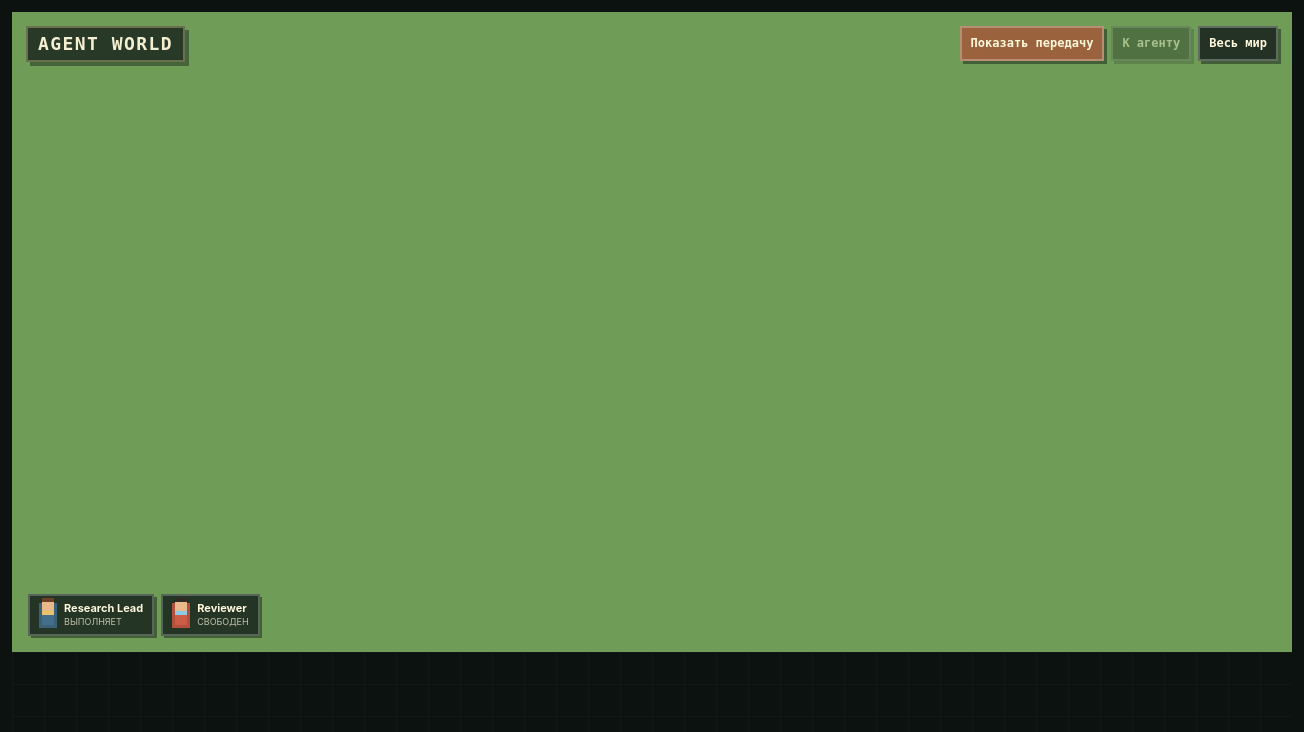
Scenario: Phase 6 living World renderer › replays exactly the supplied canonical handoff in-world
The width and height of the screenshot is (1304, 732).
Click the button "Показать передачу" at (1032, 44), box [960, 26, 1104, 61]
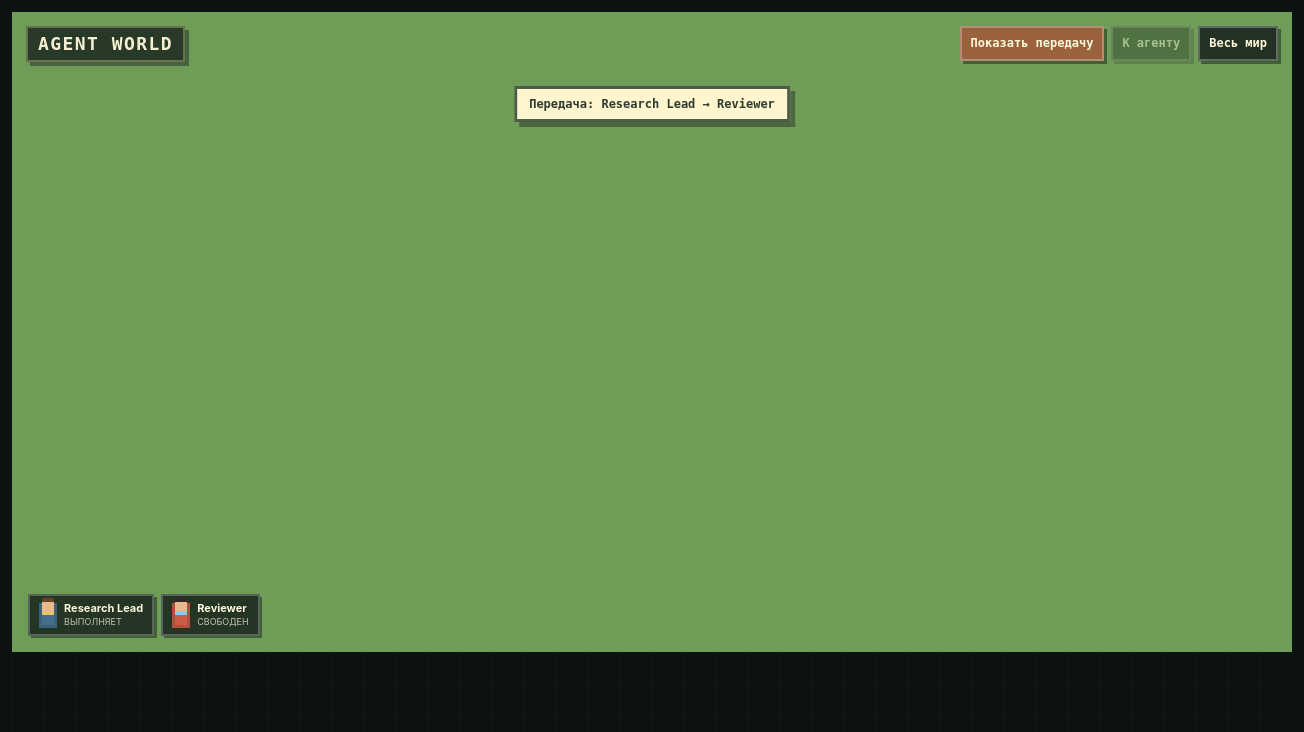
Check: the message shows "Research Lead → Reviewer", box [514, 86, 790, 122]
Check: the number of messages is 1, box [514, 86, 790, 122]
